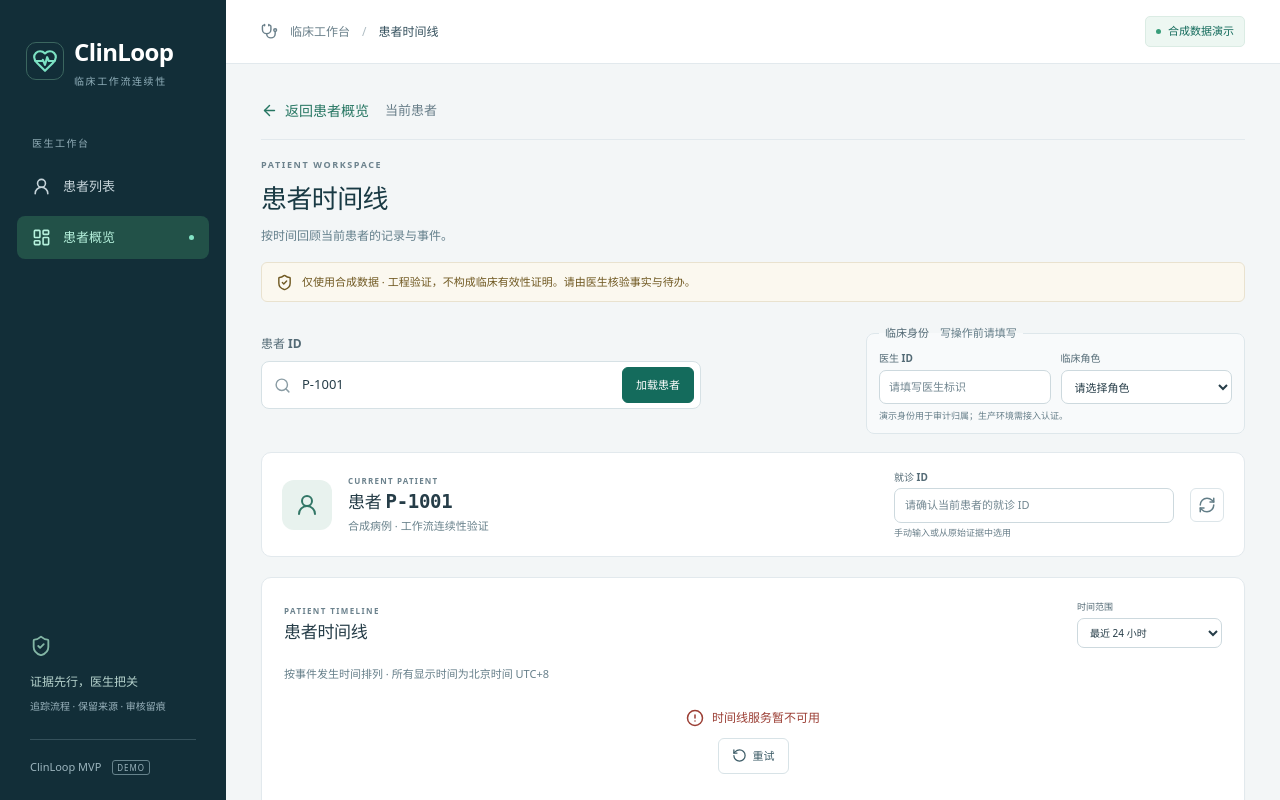
Test case: doctor workspace › keeps available panels usable when timeline fails and retries that resource
Expected: the text "时间线服务暂不可用" is shown, 686,708 -> 820,728
Click the button "返回患者概览": (315, 111) 261,96 -> 369,125
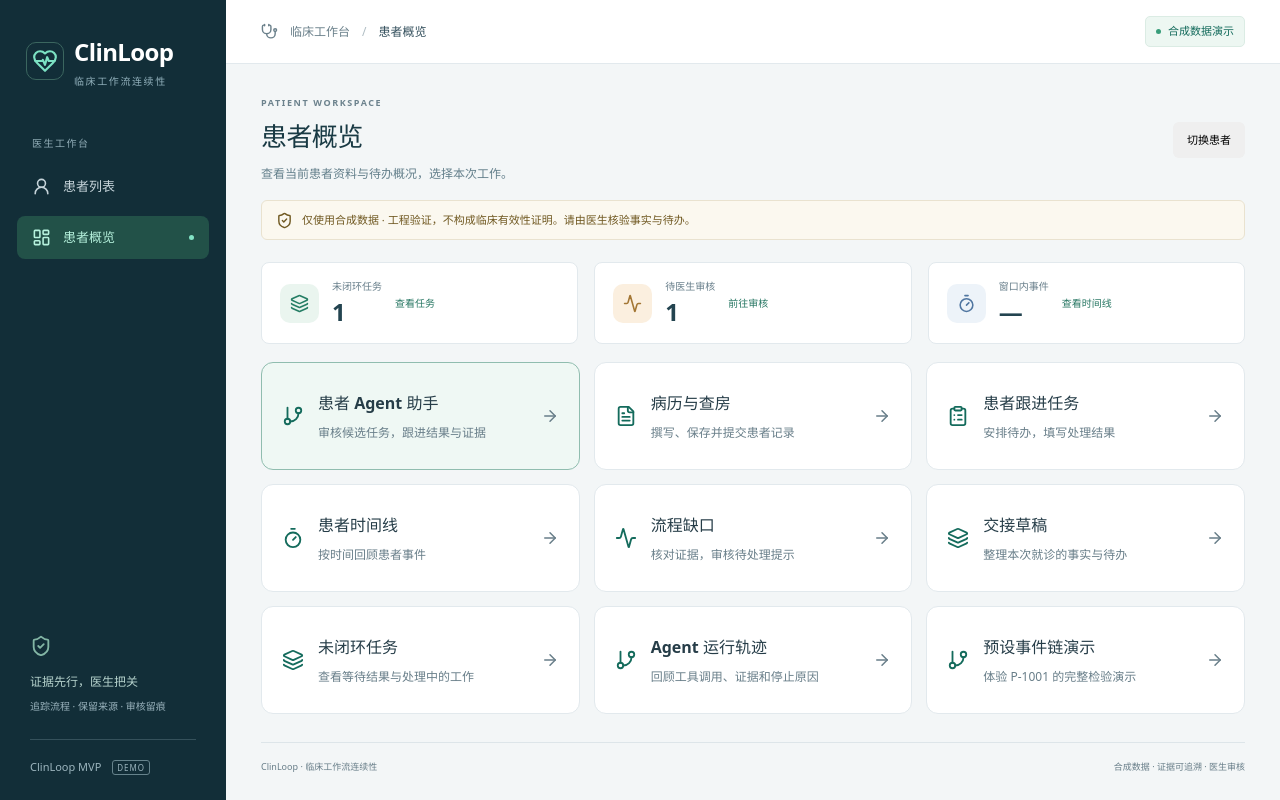
Click the button "流程缺口 核对证据，审核待处理提示": (683, 525) 594,484 -> 912,592
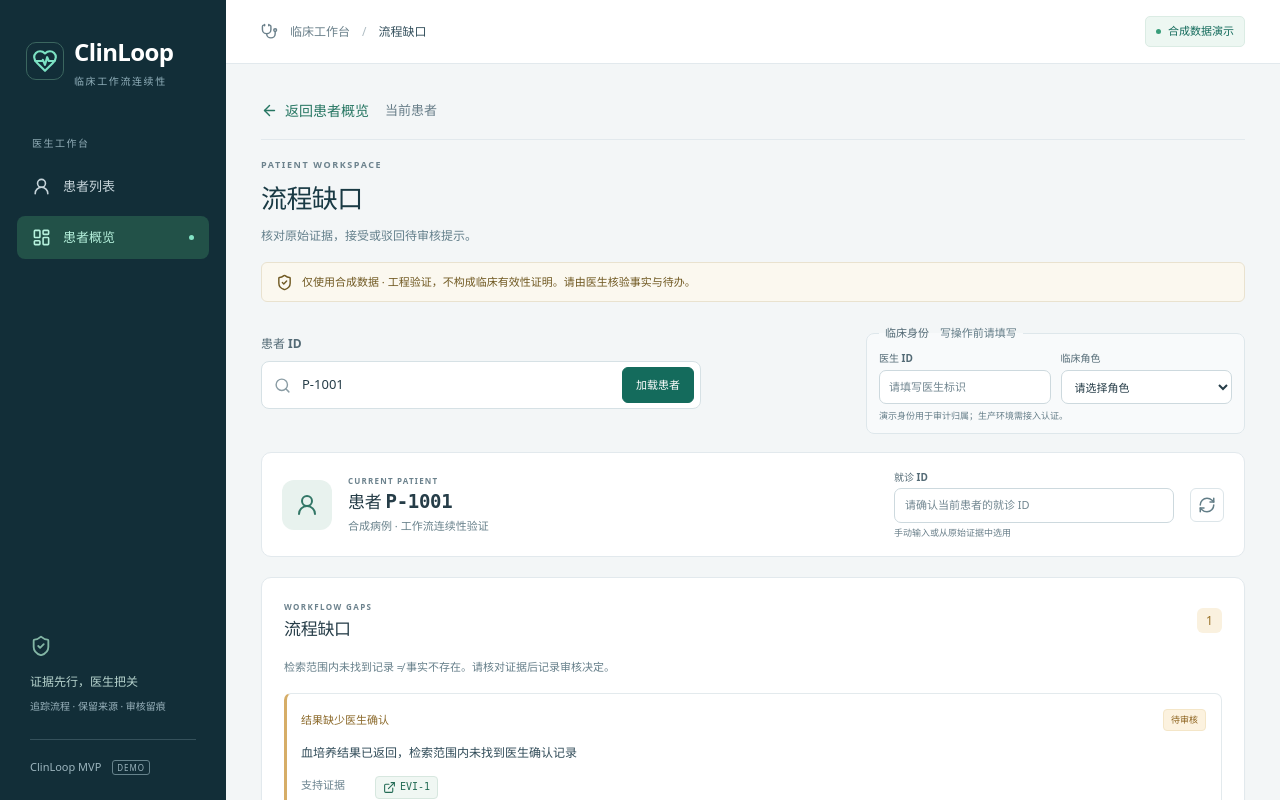
Now the text "血培养结果已返回，检索范围内未找到医生确认记录" is shown, box 301,744 -> 577,760
Click the button "返回患者概览": (315, 111) 261,96 -> 369,125
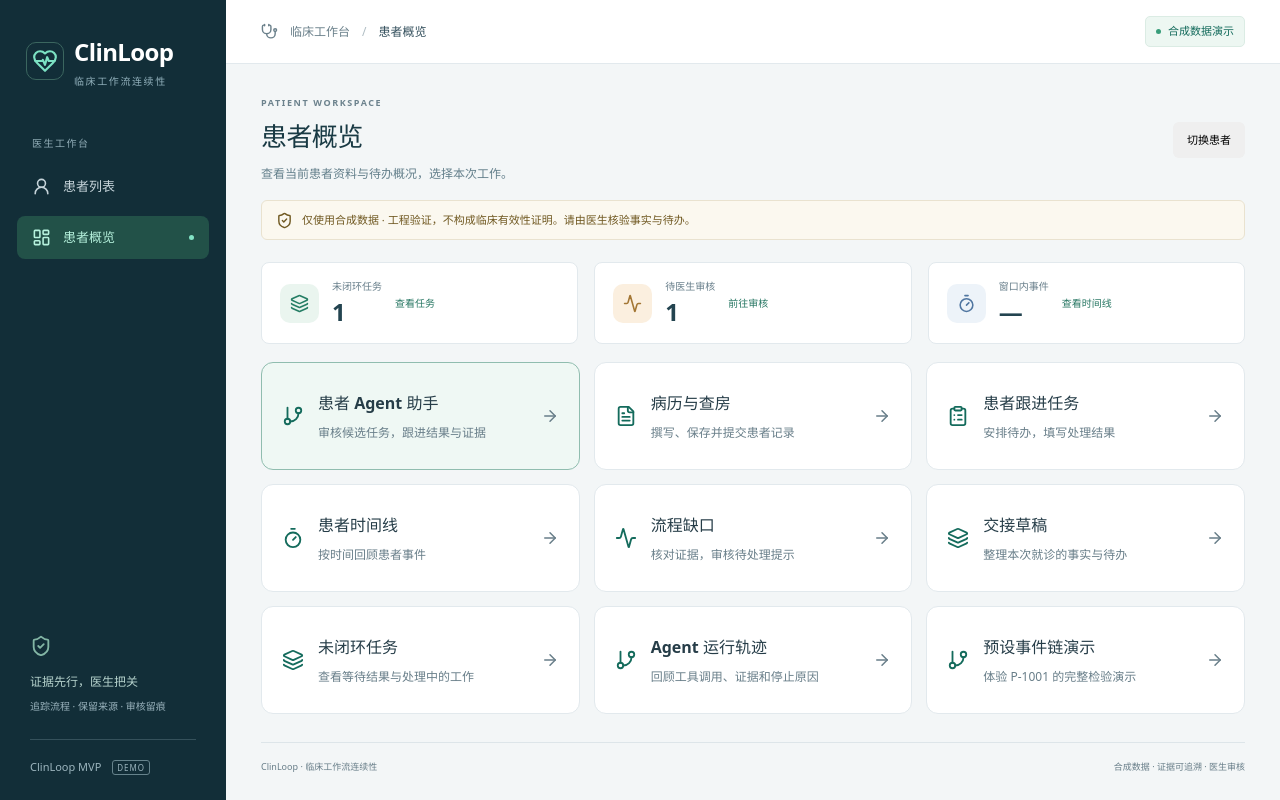
Click the button "患者时间线 按时间回顾患者事件": (358, 525) 261,484 -> 580,592
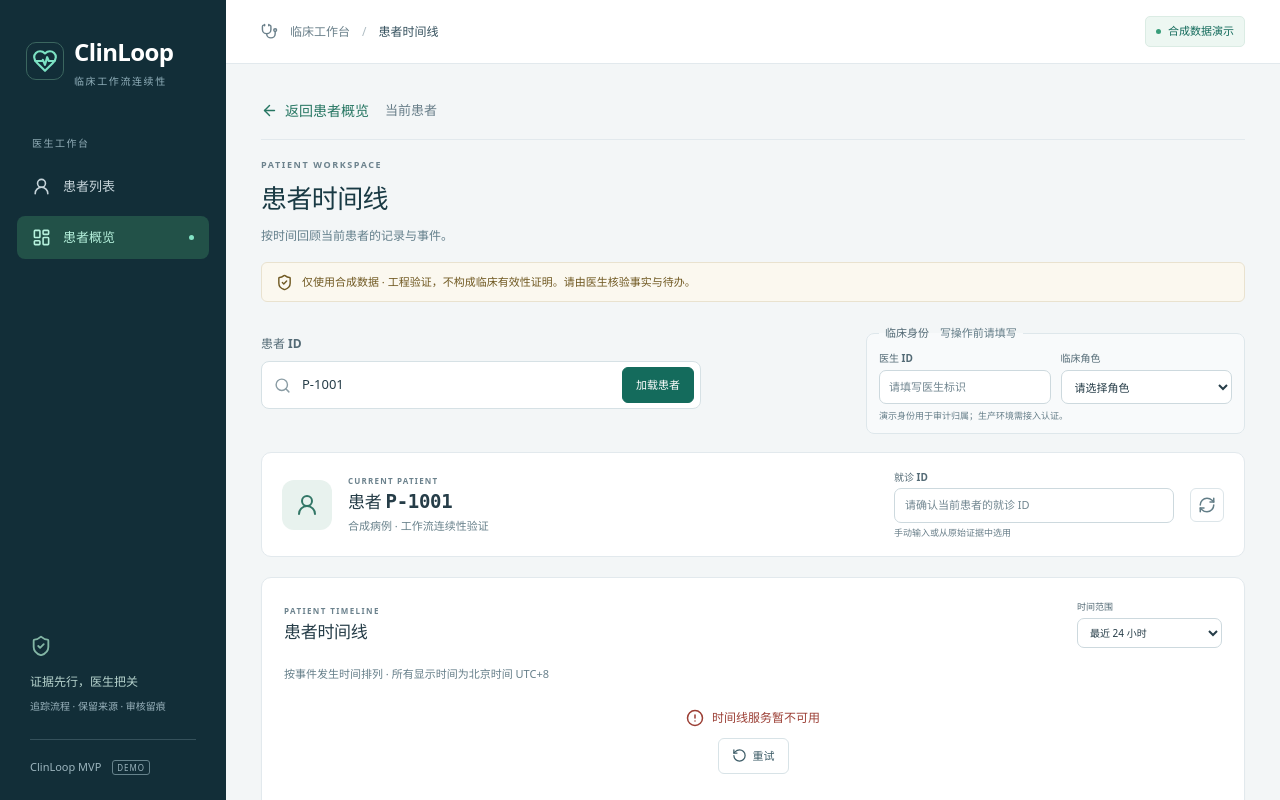
Click the button "重试": (753, 756) 718,738 -> 788,774
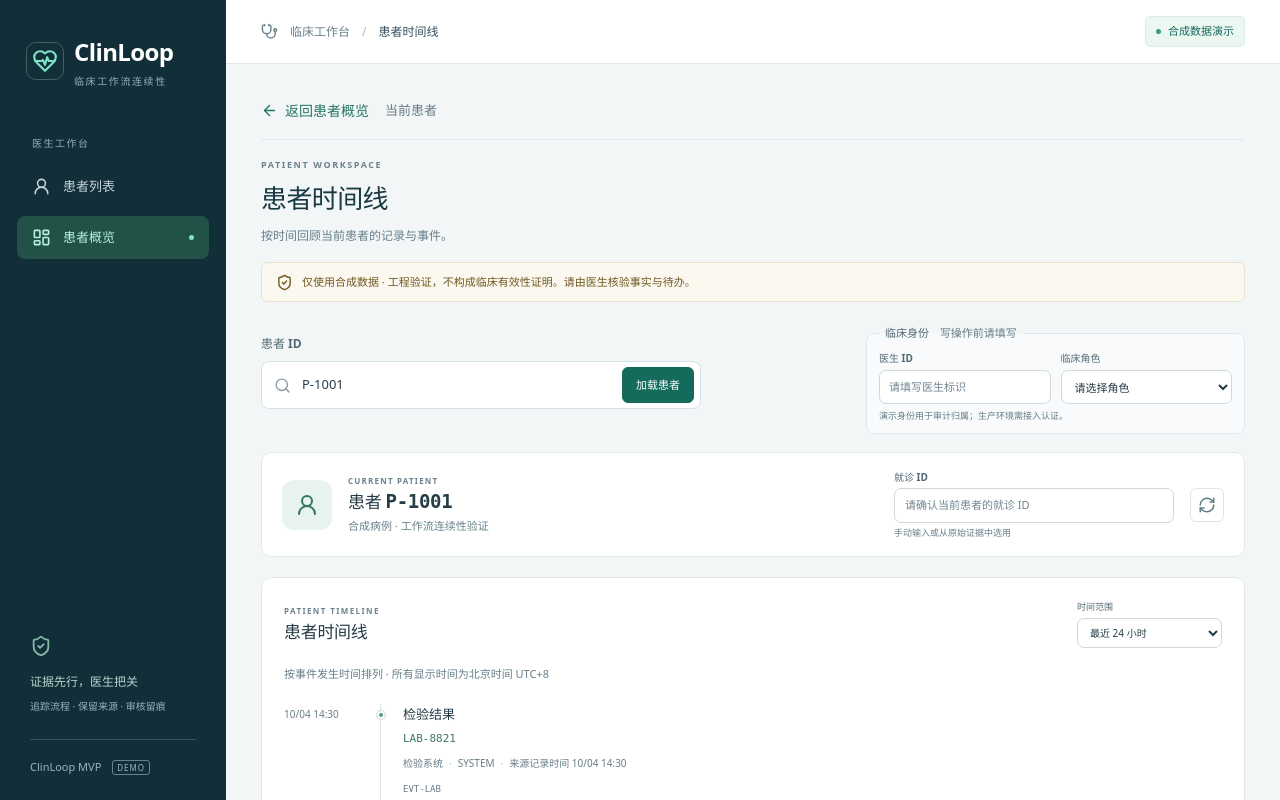
Now the text "检验系统" is shown, box 403,756 -> 443,770
